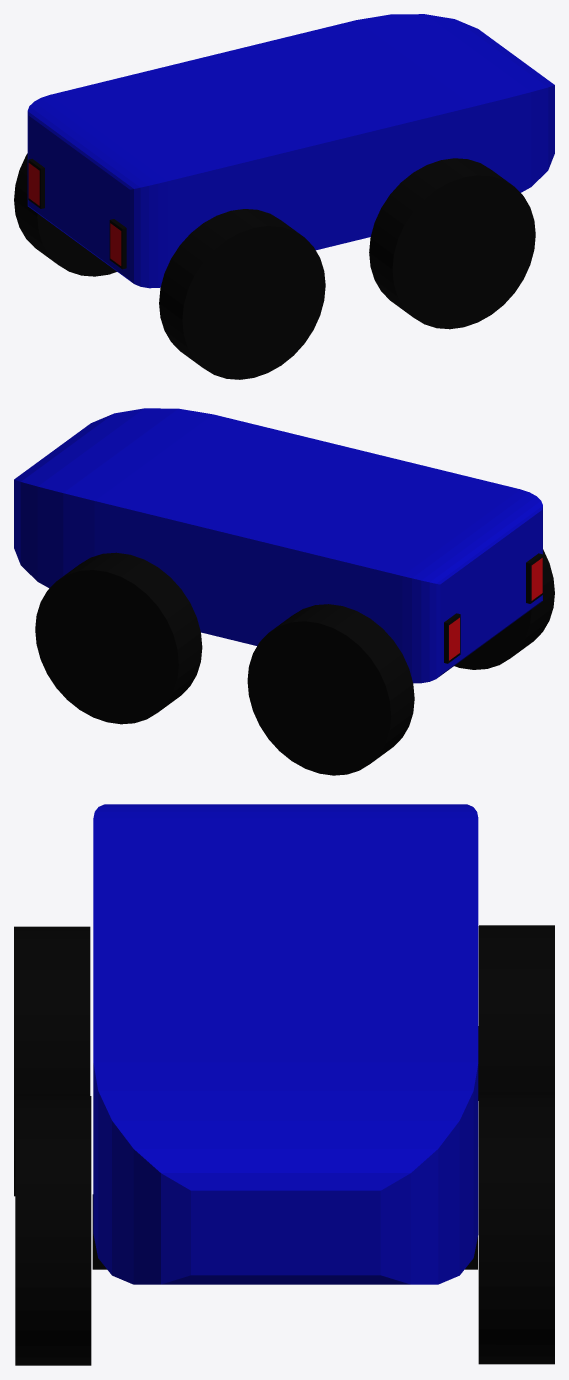
The model's file is Vehicle.dae.
3 views of the same model, one above another, from view 1: azimuth 30°, elevation 25°; view 2: azimuth 150°, elevation 25°; view 3: azimuth 270°, elevation 25° (orthographic). The views are drawn at different scales.
Visible parts, largest first — view 1: Cube, Cylinder.002, Cylinder.003, Cylinder.001, Cube.004, Cube.003; view 2: Cube, Cylinder.001, Cylinder, Cylinder.002, Cube.004, Cube.003; view 3: Cube, Cylinder, Cylinder.003, Cylinder.002, Cylinder.001.
Boxes of the visible parts, left/top/right/bottom form: Cube: left=27, top=14, right=554, bottom=288; Cylinder.002: left=159, top=209, right=325, bottom=379; Cylinder.003: left=369, top=158, right=535, bottom=329; Cylinder.001: left=14, top=153, right=116, bottom=276; Cube.004: left=109, top=219, right=126, bottom=269; Cube.003: left=28, top=158, right=44, bottom=208; Cube: left=14, top=408, right=542, bottom=683; Cylinder.001: left=247, top=604, right=414, bottom=775; Cylinder: left=35, top=552, right=202, bottom=724; Cylinder.002: left=454, top=549, right=554, bottom=669; Cube.004: left=526, top=553, right=542, bottom=603; Cube.003: left=444, top=613, right=460, bottom=663; Cube: left=93, top=804, right=478, bottom=1284; Cylinder: left=478, top=1094, right=554, bottom=1364; Cylinder.003: left=15, top=1096, right=91, bottom=1365; Cylinder.002: left=14, top=926, right=90, bottom=1196; Cylinder.001: left=478, top=925, right=554, bottom=1094.
Size of the model in its own units: 0.439 by 0.2819 by 0.1828.
